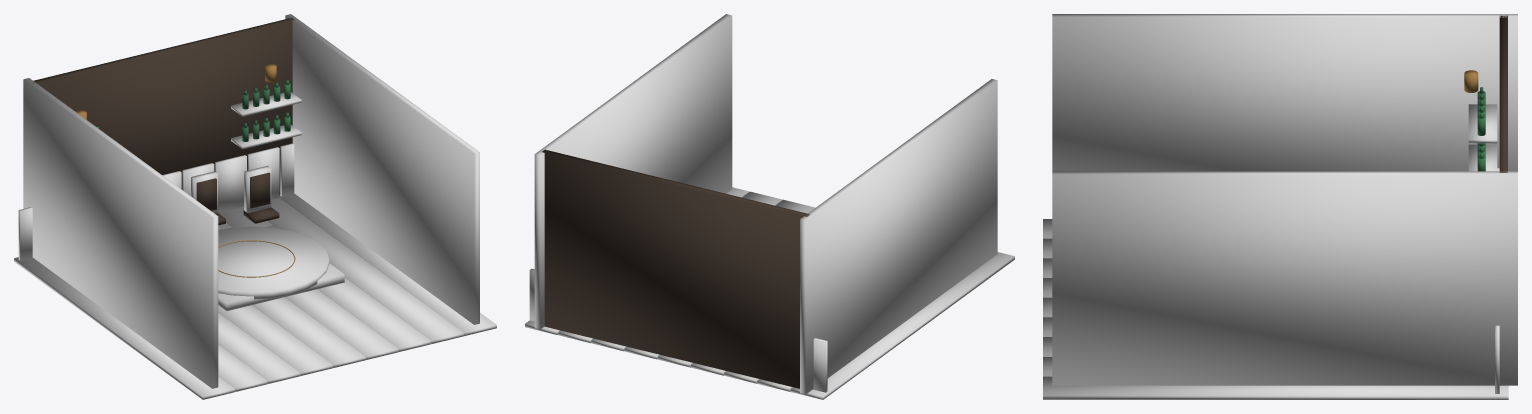
File: salon.glb
3 renders of one model, left to right at view 1: azimuth 30°, elevation 25°; view 2: azimuth 150°, elevation 25°; view 3: azimuth 270°, elevation 25°, orthographic. The views are drawn at different scales.
Parts seen in each view (by area): view 1: Mur latéral, Mur latéral.001, Mur fond, Table, Plancher.007, Plancher, Plancher.006, Plancher.008, Plancher.005, Plancher.003, Plancher.004, Plancher.002 (+12 smaller); view 2: Mur fond, Mur latéral, Mur latéral.001, Plancher, Lambris, Plancher.007, Plancher.006; view 3: Mur latéral.001, Mur latéral, Plancher.008, Mur fond, Étagère.001, Étagère.
Boxes of the visible parts, x1,y1,x2,y2 form: Mur latéral: [23, 78, 218, 388]; Mur latéral.001: [285, 14, 479, 324]; Mur fond: [33, 17, 294, 194]; Table: [218, 226, 329, 299]; Plancher.007: [268, 198, 464, 343]; Plancher: [14, 257, 234, 399]; Plancher.006: [218, 206, 431, 351]; Plancher.008: [279, 194, 496, 335]; Plancher.005: [218, 222, 398, 359]; Plancher.003: [218, 305, 333, 375]; Plancher.004: [252, 297, 365, 367]; Plancher.002: [218, 313, 300, 383]; Mur fond: [542, 149, 809, 388]; Mur latéral: [800, 79, 997, 394]; Mur latéral.001: [534, 14, 732, 329]; Plancher: [790, 252, 1014, 399]; Lambris: [813, 338, 827, 392]; Plancher.007: [558, 191, 782, 343]; Plancher.006: [591, 199, 815, 351]; Mur latéral.001: [1052, 171, 1517, 385]; Mur latéral: [1052, 14, 1517, 171]; Plancher.008: [1043, 376, 1508, 399]; Mur fond: [1499, 15, 1507, 172]; Étagère.001: [1468, 104, 1497, 143]; Étagère: [1468, 144, 1497, 171].
Bounding box in the file's own units: 8.98 × 5.15 × 10.2.
